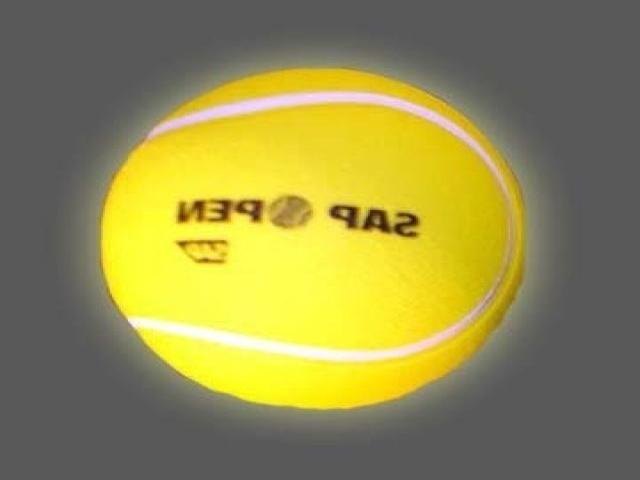tennis-ball: (98, 66, 528, 410)
